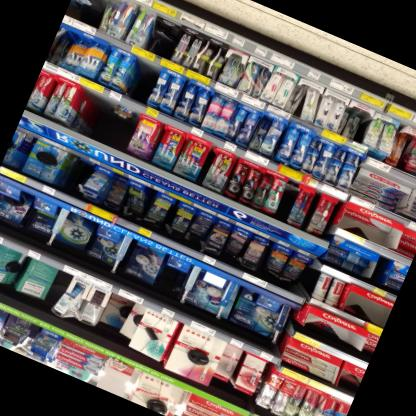empty_space: (68, 85, 128, 145), (342, 283, 394, 328), (58, 151, 92, 194), (132, 56, 160, 98)
